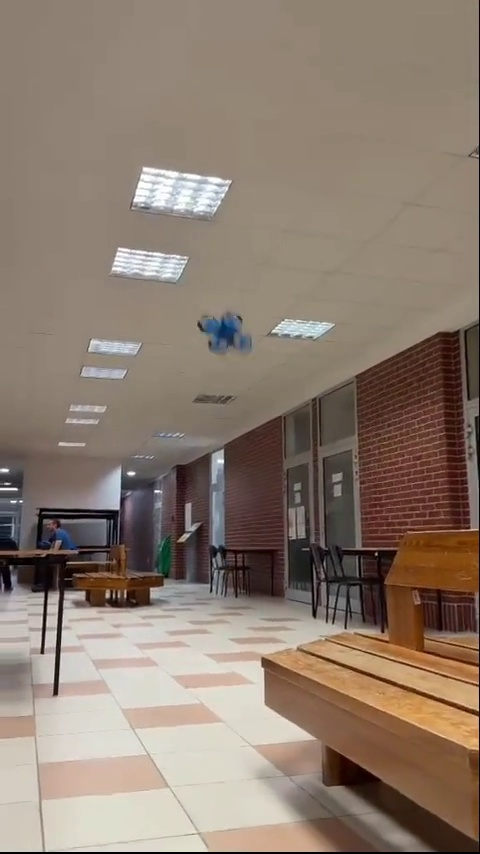drone: (192, 315, 253, 351)
no vest: (35, 512, 75, 562)
